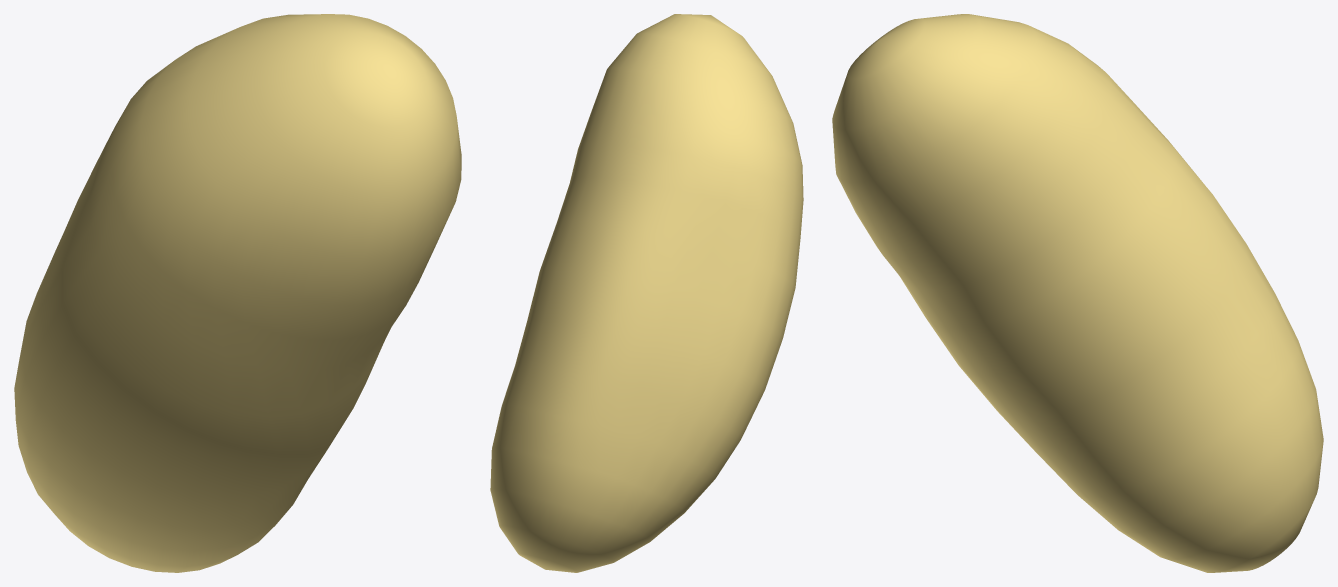
The picture shows the model from 3 angles, left to right: view 1: azimuth 30°, elevation 25°; view 2: azimuth 150°, elevation 25°; view 3: azimuth 270°, elevation 25°; orthographic projection. The views are drawn at different scales.
Parts seen in each view (by area): view 1: ZA_db264e06f524a30b; view 2: ZA_db264e06f524a30b; view 3: ZA_db264e06f524a30b.
Boxes of the visible parts, x1=… form: ZA_db264e06f524a30b: x1=14, y1=14, x2=461, y2=572; ZA_db264e06f524a30b: x1=490, y1=14, x2=803, y2=572; ZA_db264e06f524a30b: x1=832, y1=14, x2=1323, y2=572.
Size of the model in its own units: 0.00673 by 0.0134 by 0.011.
